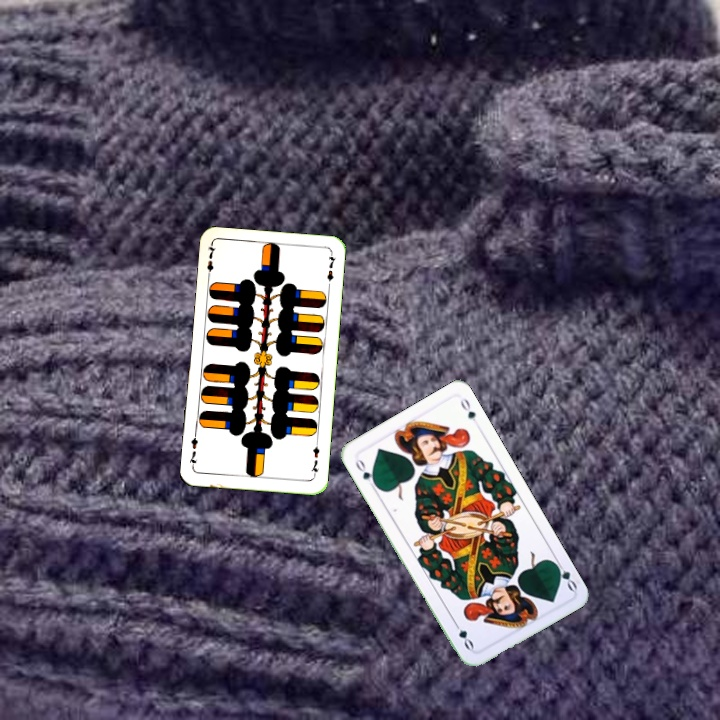E7: (307, 438, 322, 479), (203, 241, 218, 282)
GO: (549, 556, 580, 594), (351, 454, 380, 491)
